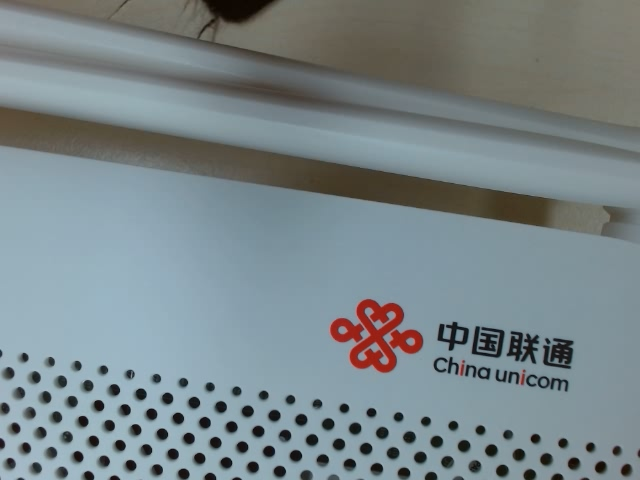AD_ChinaUnicom: (301, 264, 593, 409)
